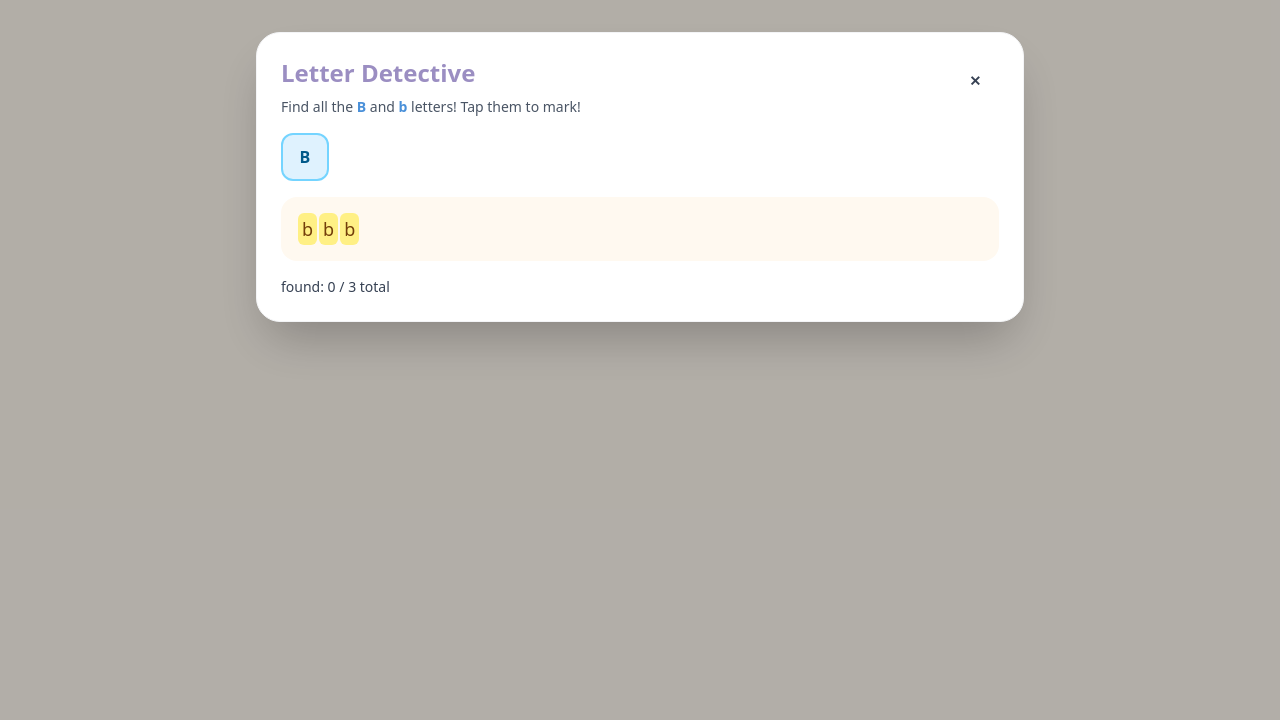
Test case: LetterDetectiveGame › marks letters and completes the challenge
Click the button named "mark b at position 1": (308, 229) [298,213,317,245]
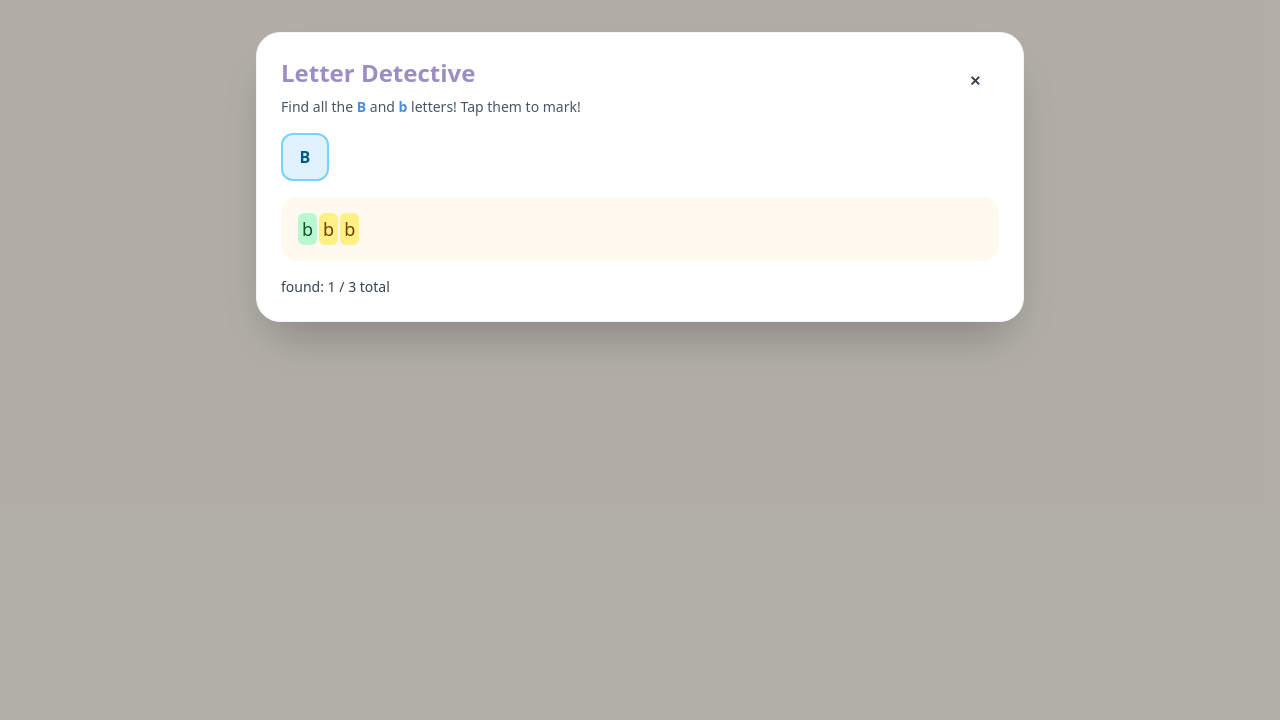
Click the button named "mark b at position 2": (329, 229) [319,213,338,245]
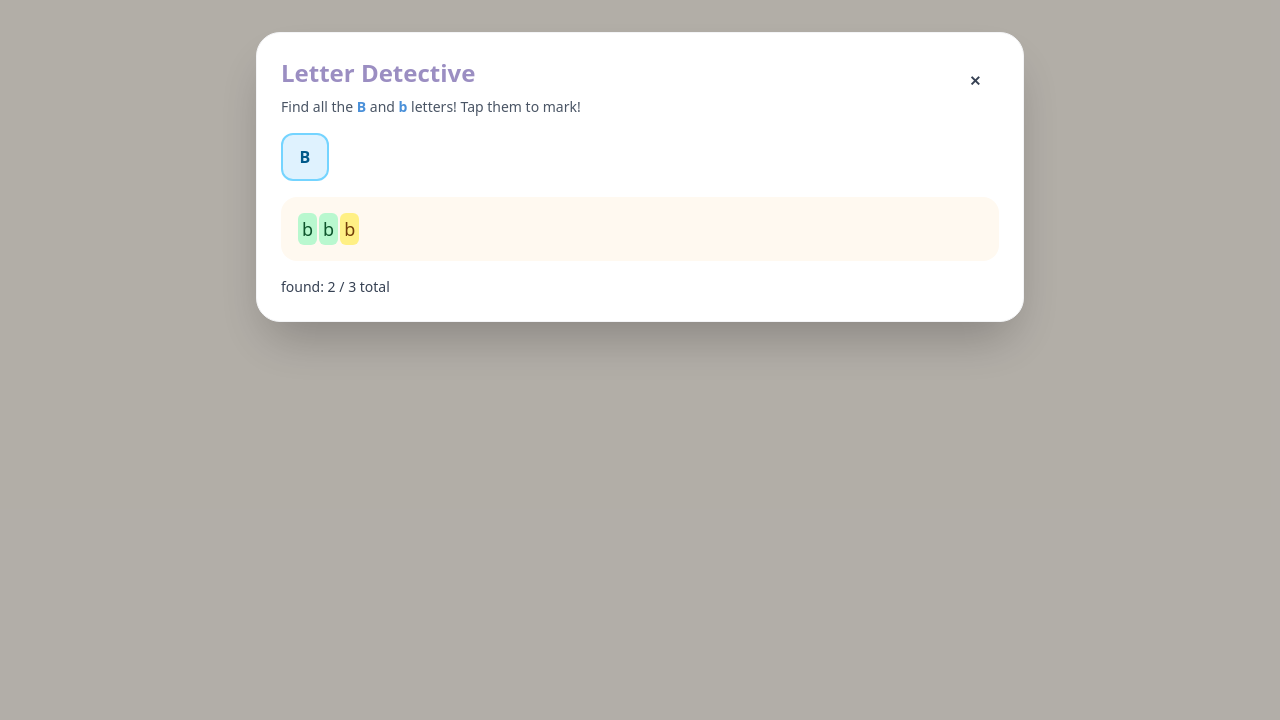
Click the button named "mark b at position 3": (350, 229) [340,213,359,245]
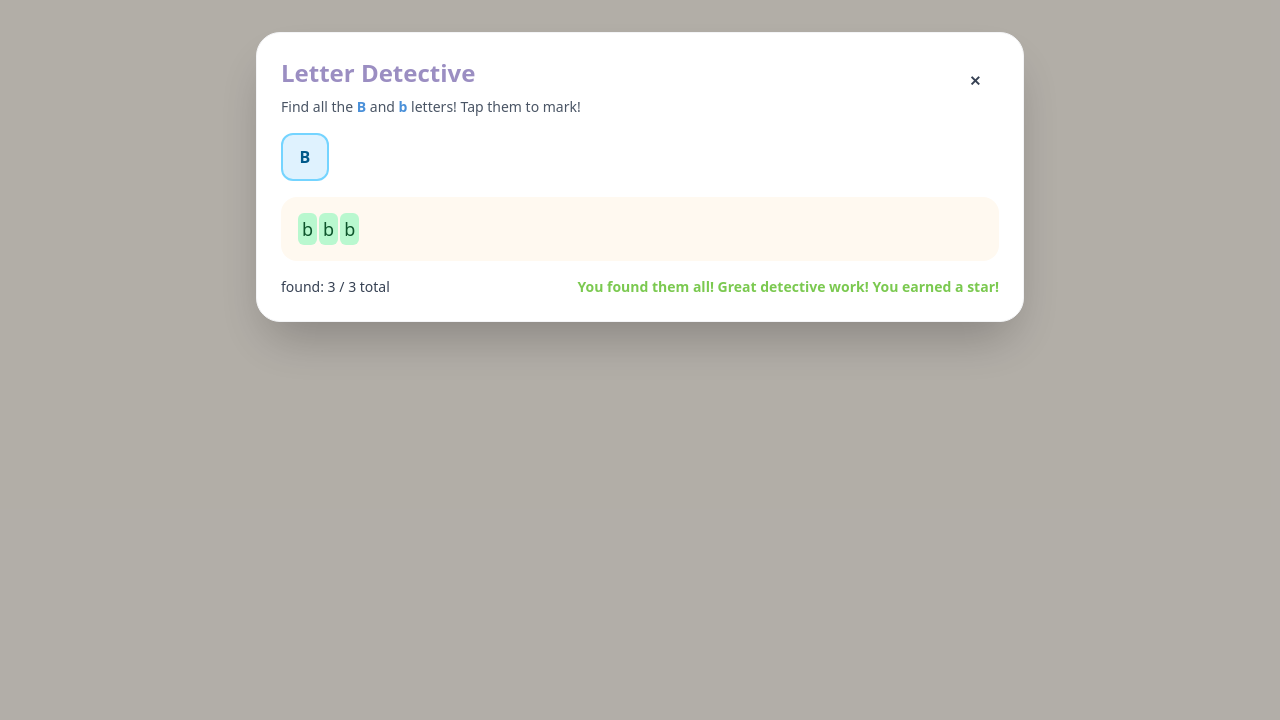
Result: the text "You found them all! Great detective work! You earned a star!" is shown at [578,277,999,297]
